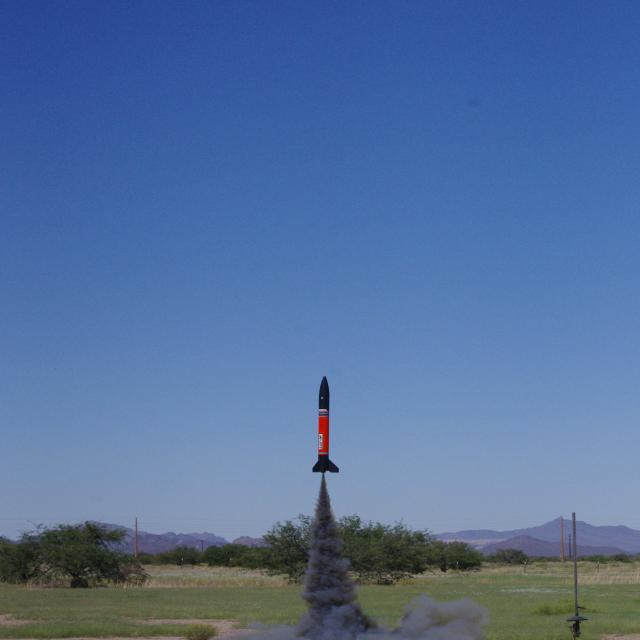Rocket: (310, 376, 339, 474)
